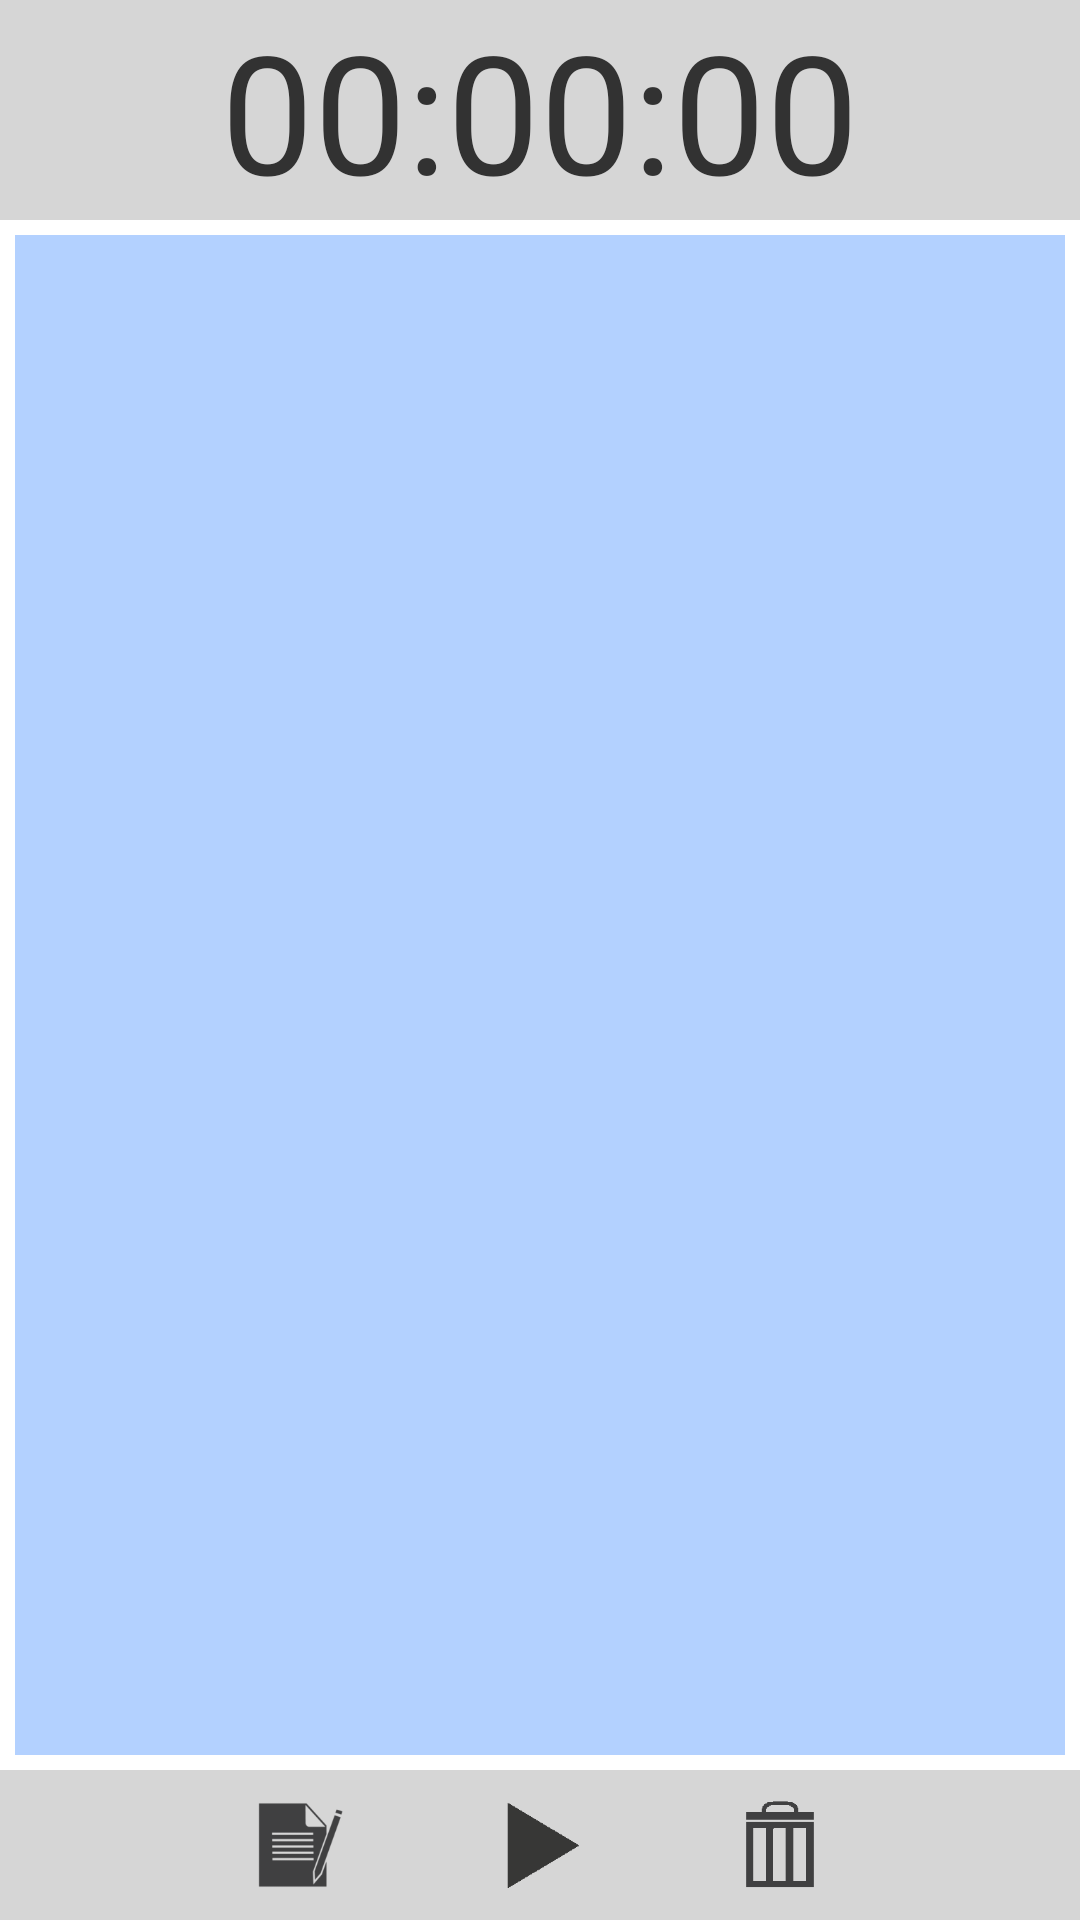

Locate icon controls on the screen. Image size 1080px x 1920px, boxes as [left=x1, top=y1, right=x2, bottom=y2].
edit: [left=259, top=1803, right=343, bottom=1887]
play: [left=507, top=1803, right=579, bottom=1888]
urn: [left=746, top=1801, right=814, bottom=1887]
